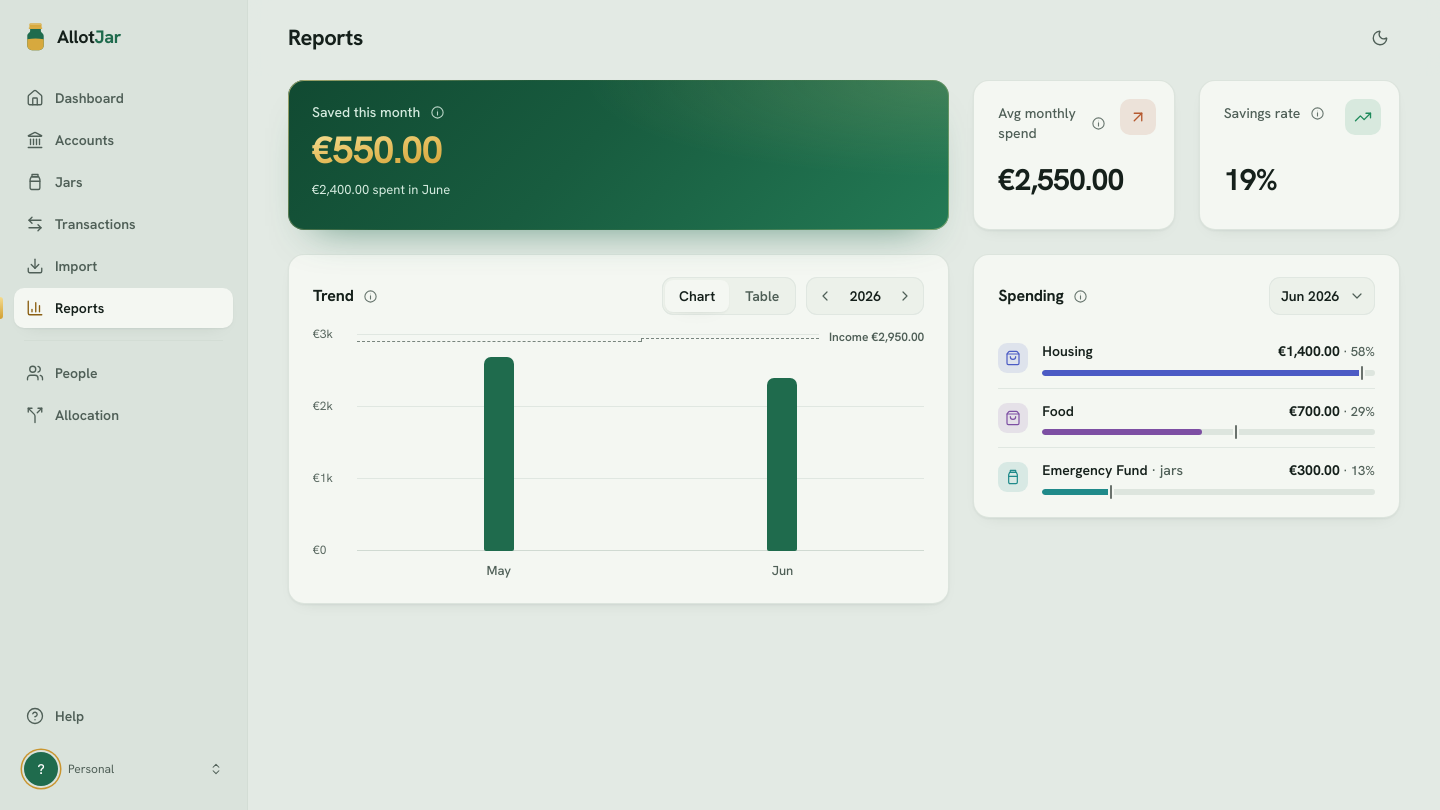
Test: ReportsPage — catalog (RPT) › says in the KPI (i)s which months each figure covers
The image size is (1440, 810).
Expected: the text named "Saved this month: €550.00" is shown, [312,130,442,172]
Expected: the text "€2,400.00 spent in June" is shown, [312,181,450,198]
Hover over the button named "About saved this month" at [437, 112], box [426,101,448,123]
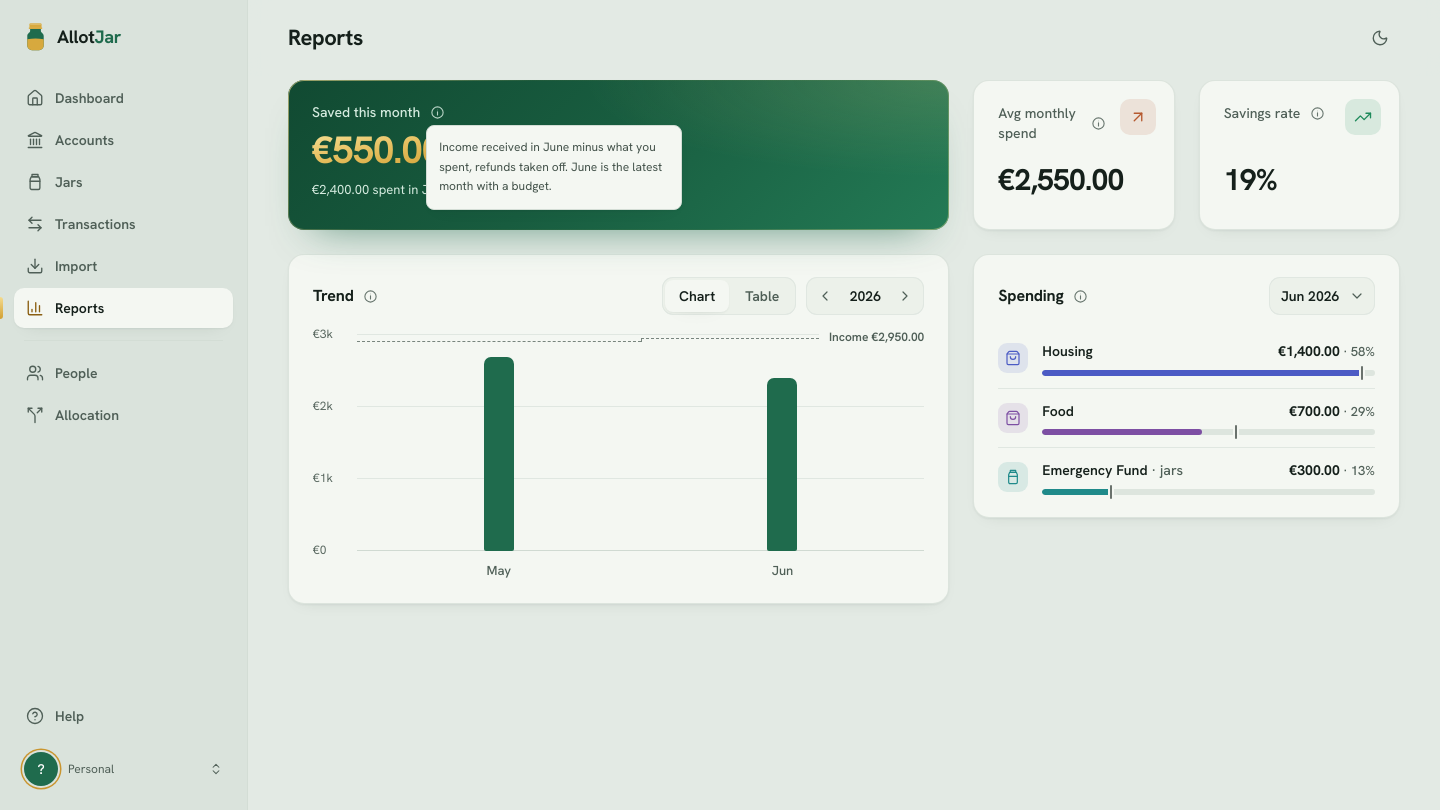
Expected: the tooltip shows "Income received in June minus what you spent, refunds taken off. June is the latest month with a budget.", [439,139,662,194]
Move the pointer off the button named "About saved this month", box [426,101,448,123]
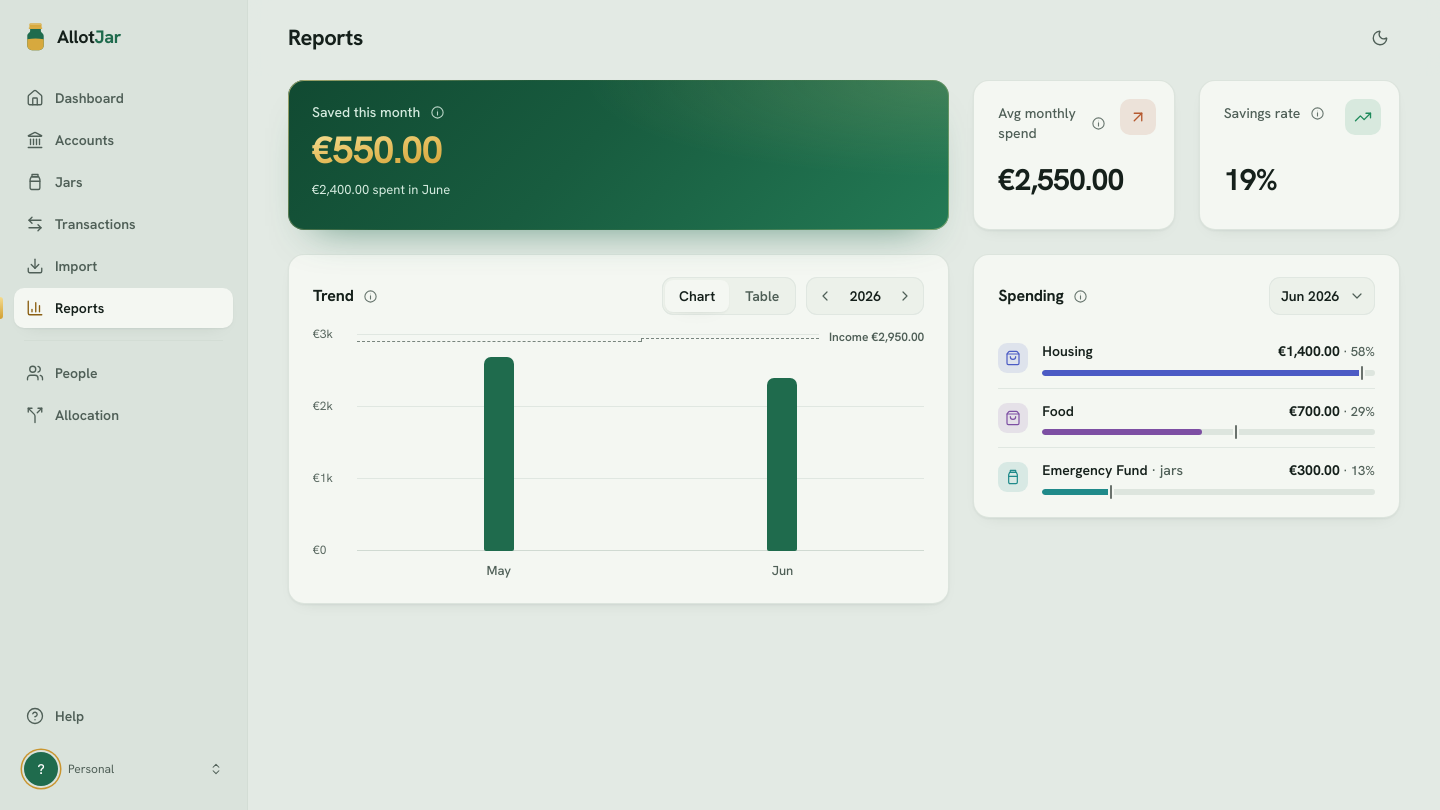
Hover over the button named "About avg monthly spend" at [1099, 123], box [1088,112,1110,134]
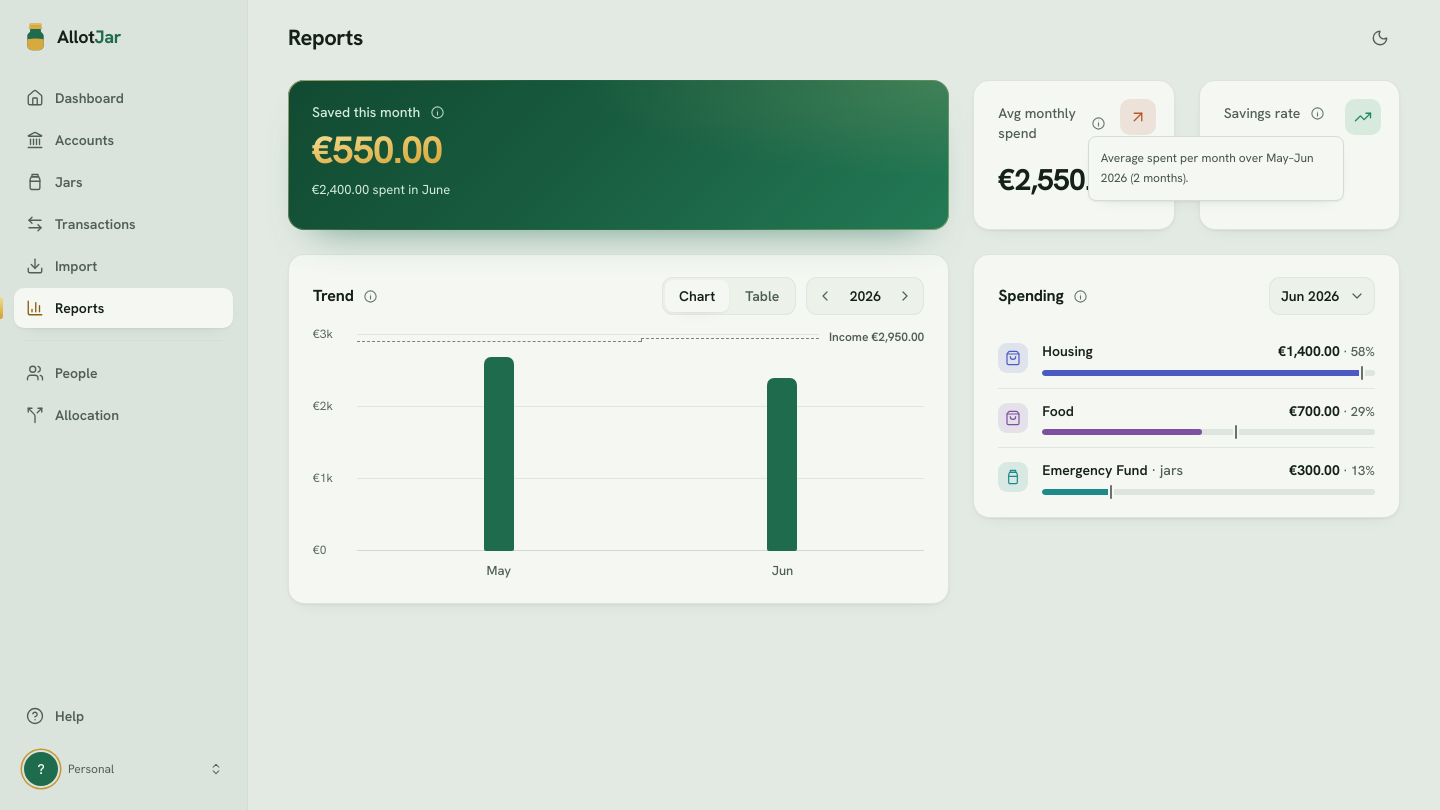
Expected: the tooltip reads "Average spent per month over May–Jun 2026 (2 months).", [1101,150,1314,186]
Move the pointer off the button named "About avg monthly spend", box [1088,112,1110,134]
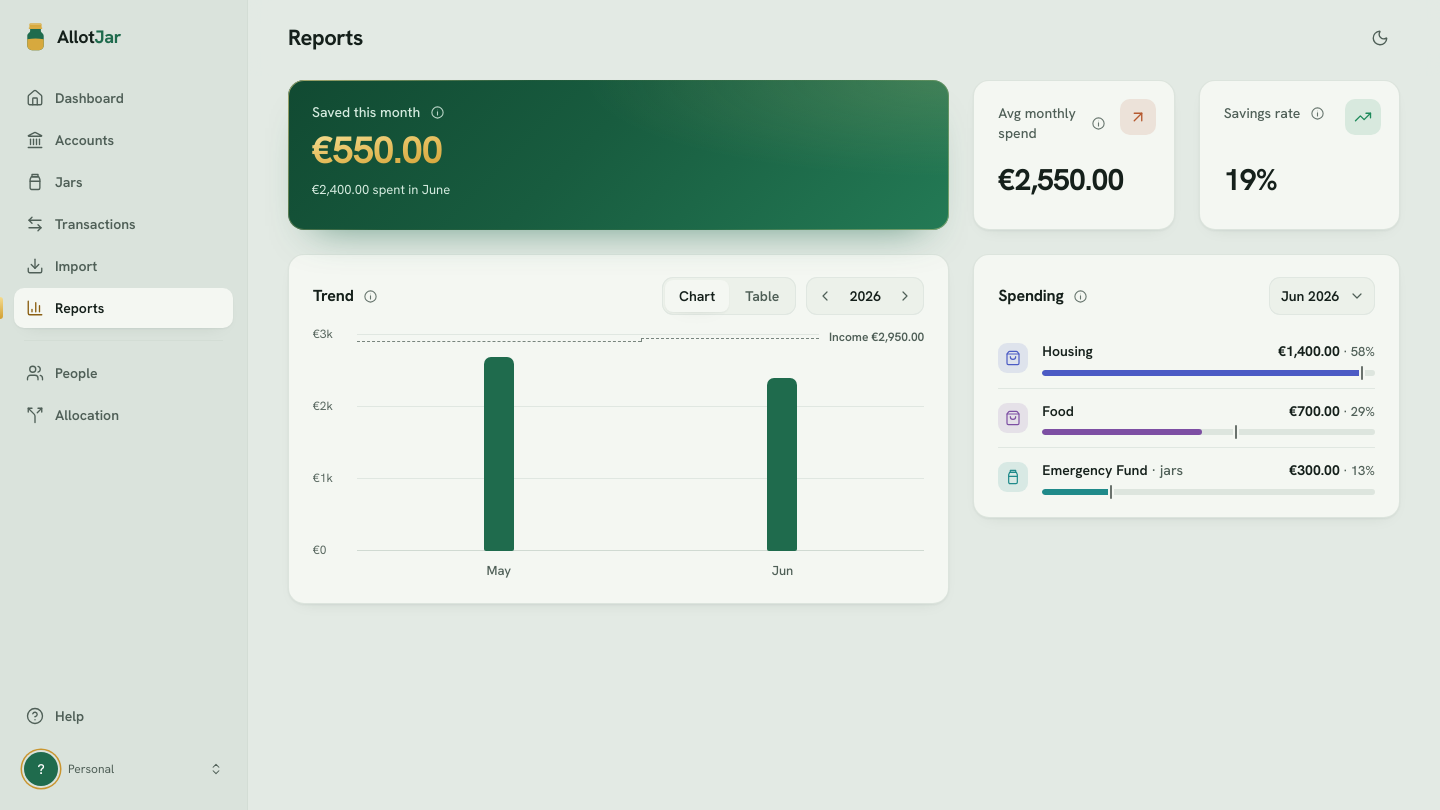
Hover over the button named "About savings rate" at [1317, 113], box [1306,102,1328,124]
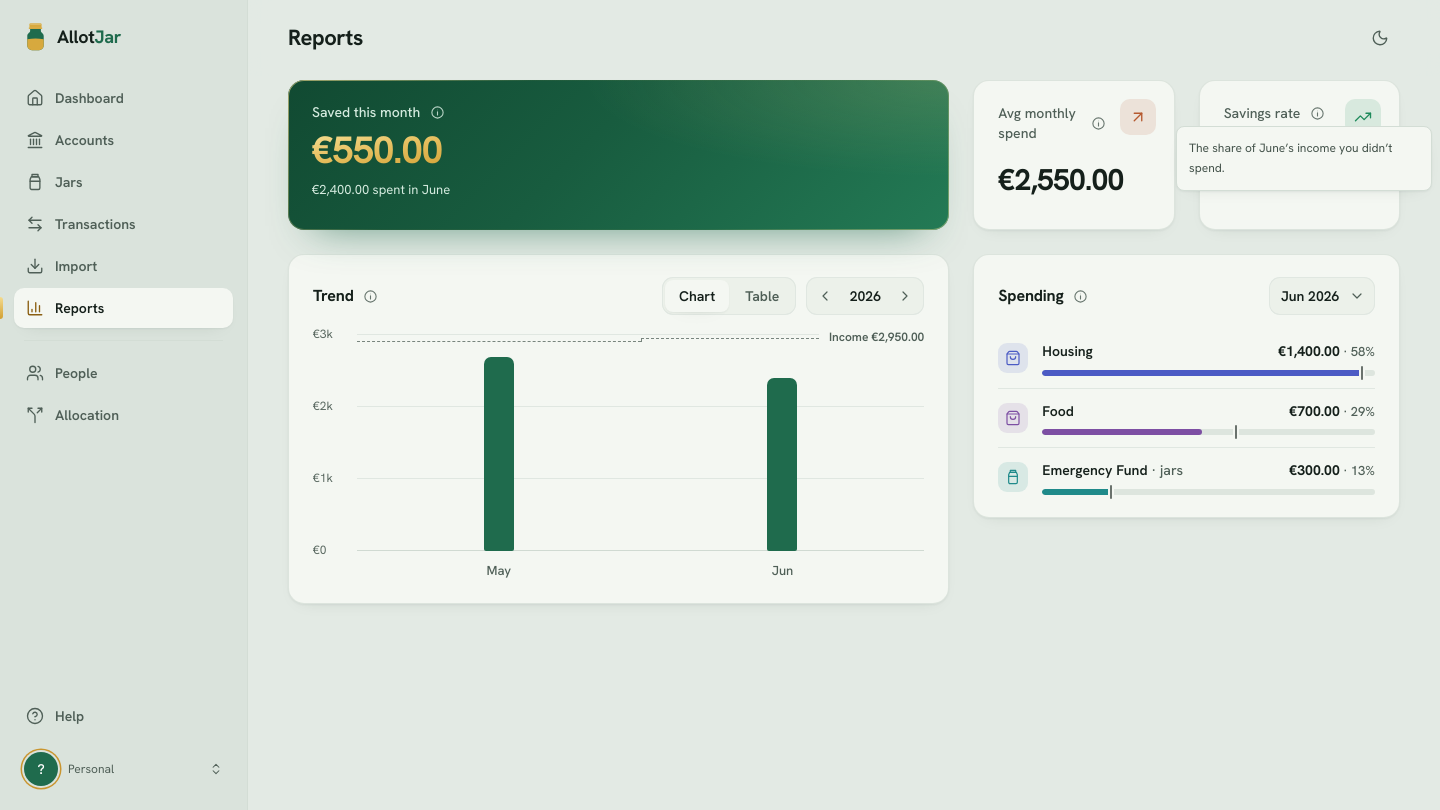
Expected: the tooltip reads "The share of June’s income you didn’t spend.", [1189,140,1392,176]
